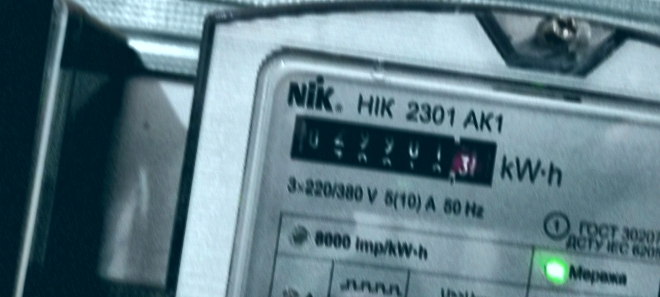0: (405, 134, 424, 161), (305, 126, 323, 150)
1: (432, 138, 448, 163)
2: (331, 125, 349, 149)
3: (456, 153, 474, 178)
9: (382, 133, 397, 157), (357, 128, 372, 151)
screen: (281, 106, 509, 199)
